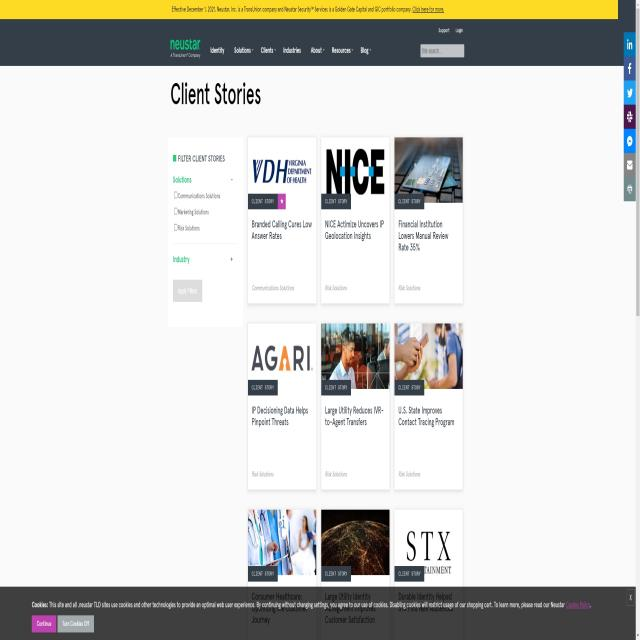menu-bar: (435, 22, 465, 40)
search: (419, 42, 465, 59)
side-panel: (168, 142, 242, 322)
tab-bar: (207, 40, 374, 63)
